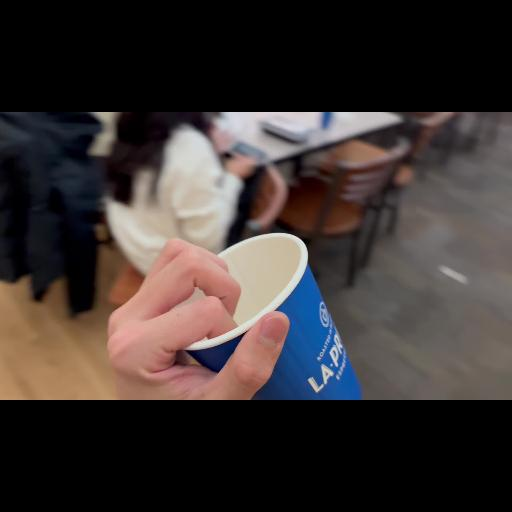lp_paper_cup: (131, 224, 367, 400)
